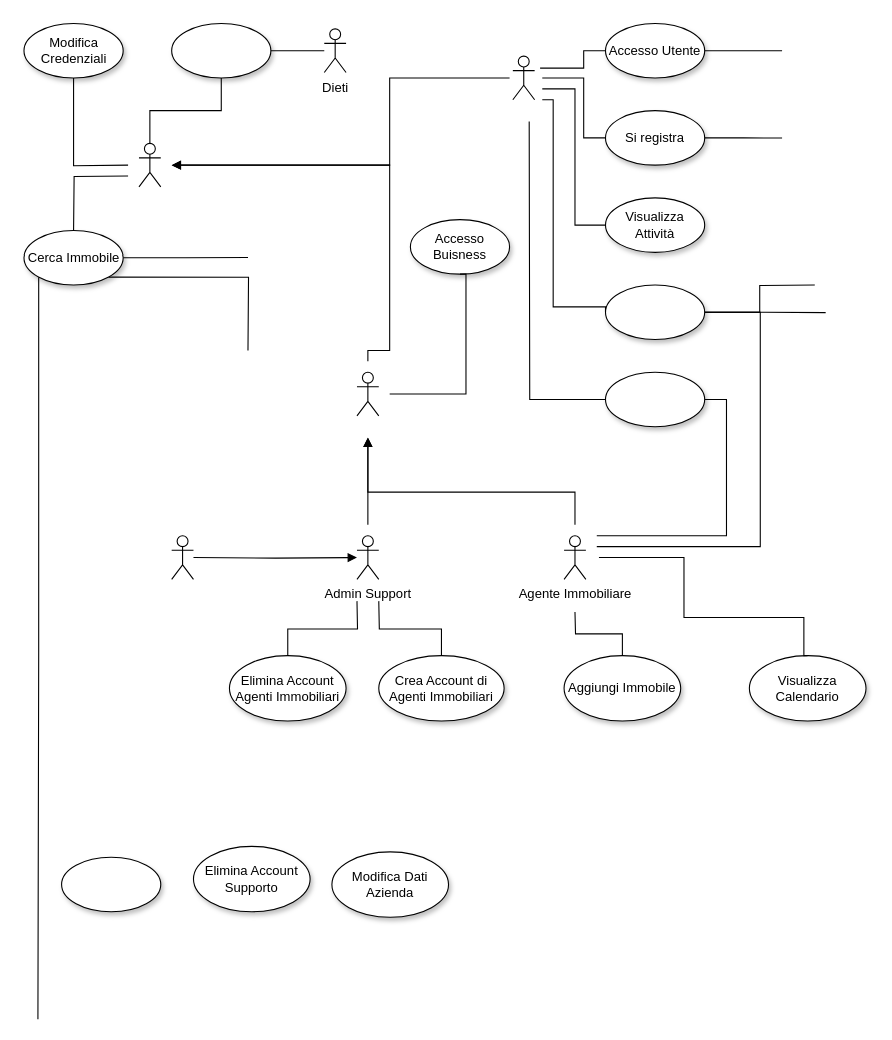
Some shapes in this 892 by 1040 pixel diagram are drawn without their labels. Each missing label, with the centre of its shape:
"Acquista Immobile" goes at (x=655, y=400).
"Admin" goes at (x=182, y=557).
"Aggiungi Azienda" goes at (x=221, y=52).
"Amministrazione" goes at (x=367, y=393).
"Cliente" goes at (x=523, y=77).
"Crea Account Supporto" goes at (x=111, y=885).
"Ospite" goes at (x=149, y=164).
"Richiede visite" goes at (x=655, y=313).
